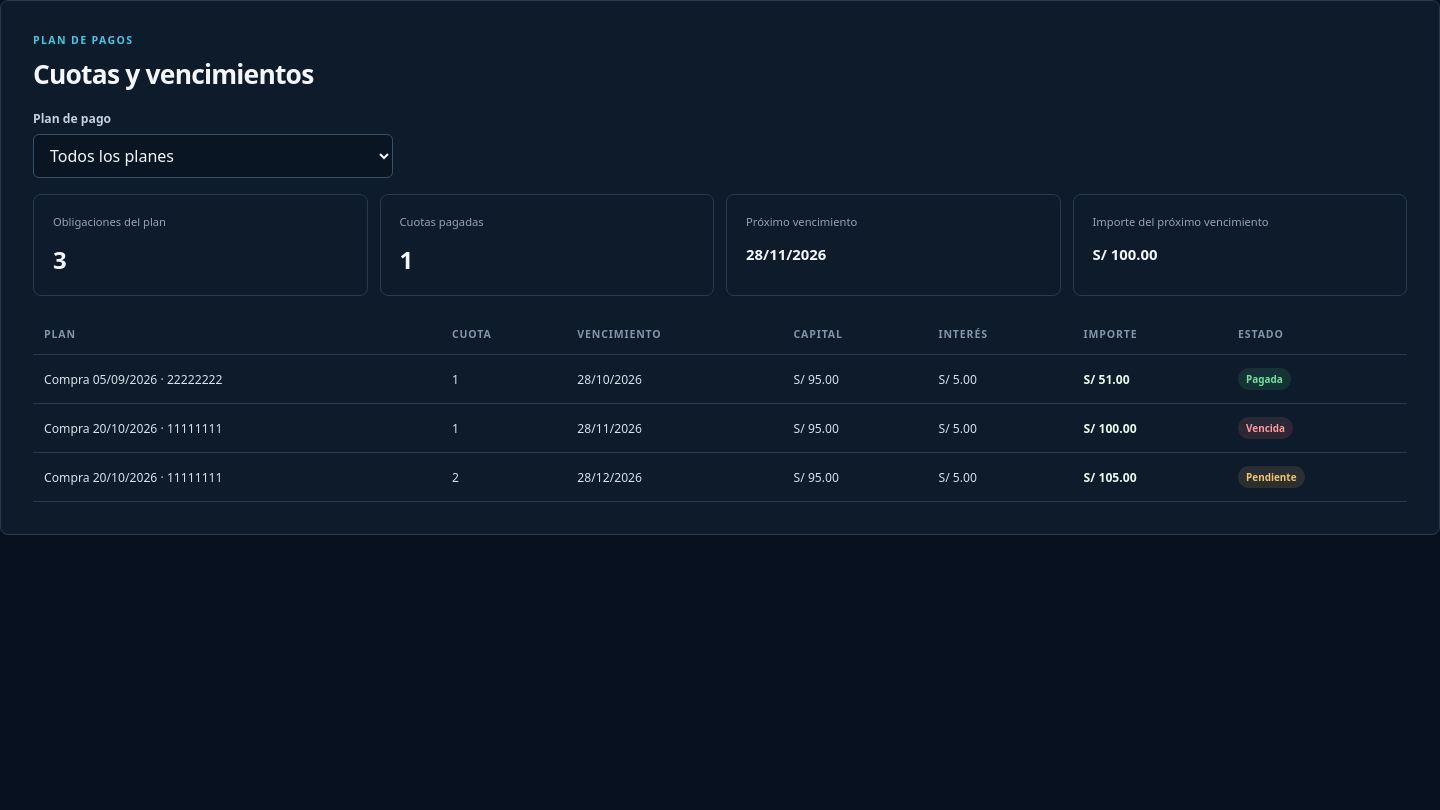
it: ClientPaymentPlans › still filters by plan when the schedule does not include accountId
Select "Compra 20/10/2026 · 11111111" in the dropdown labelled "Plan de pago" at (213, 156), box [33,134,393,178]
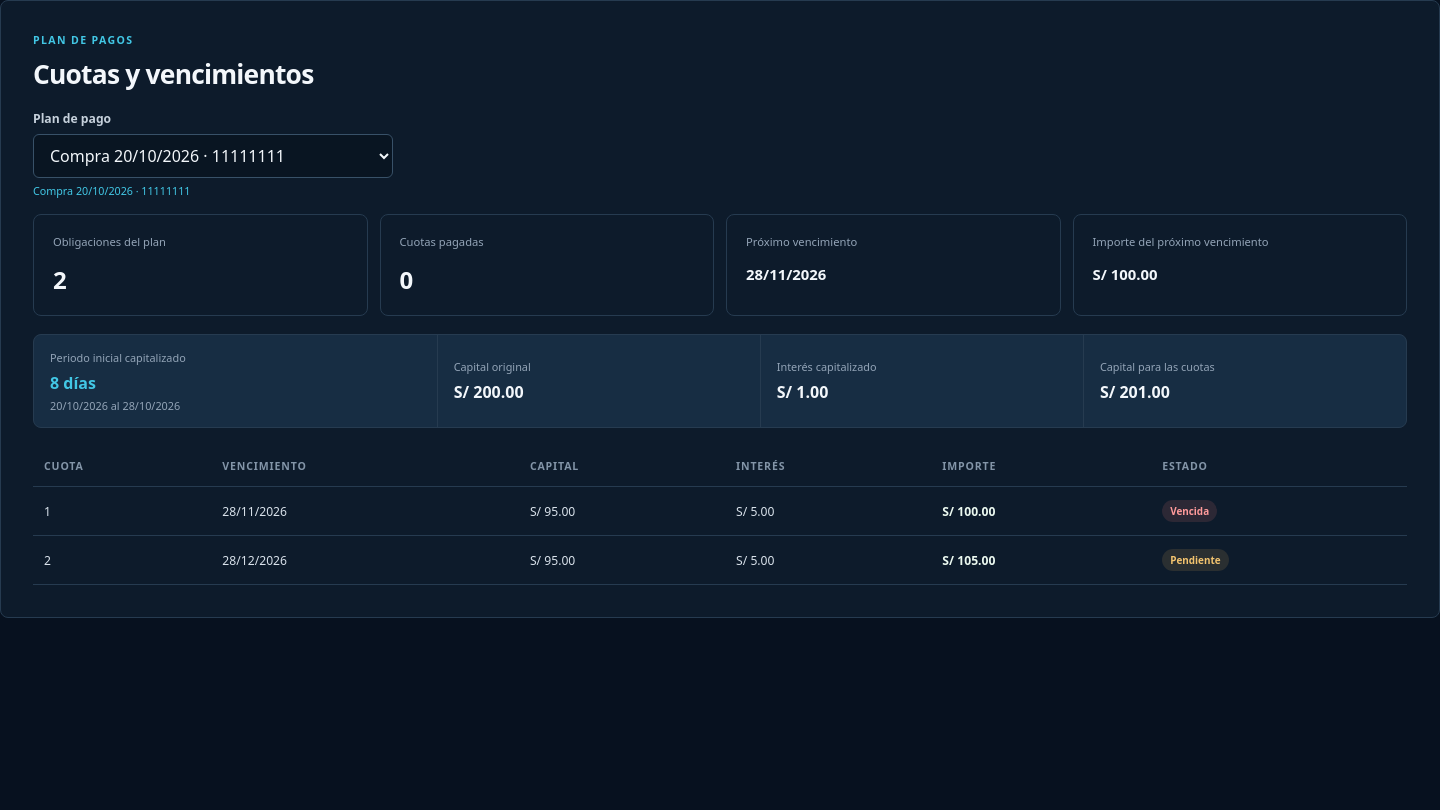
Now the number of rows is 3, box [33,446,1407,486]; [33,486,1407,536]; [33,536,1407,584]
